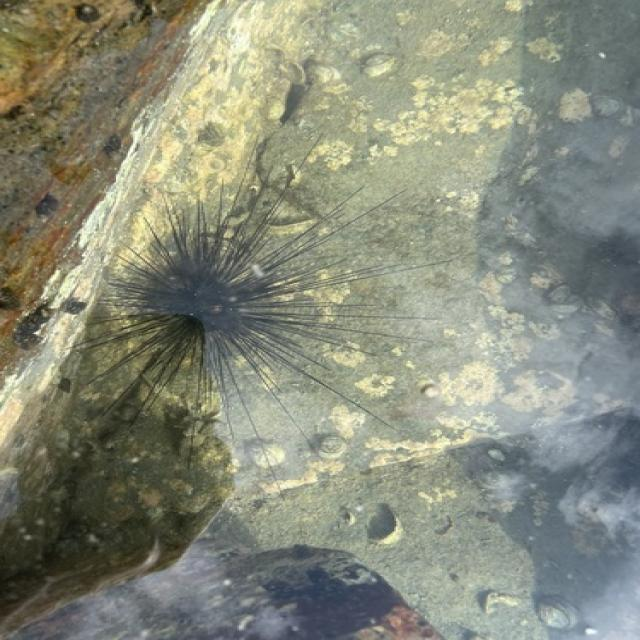Urchin: (72, 137, 454, 462)
